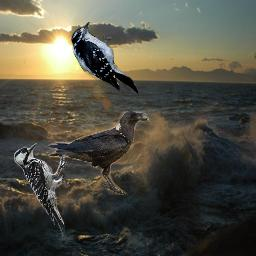Crow: (48, 111, 150, 195)
Woodpecker: (13, 143, 67, 240), (70, 22, 140, 94)
